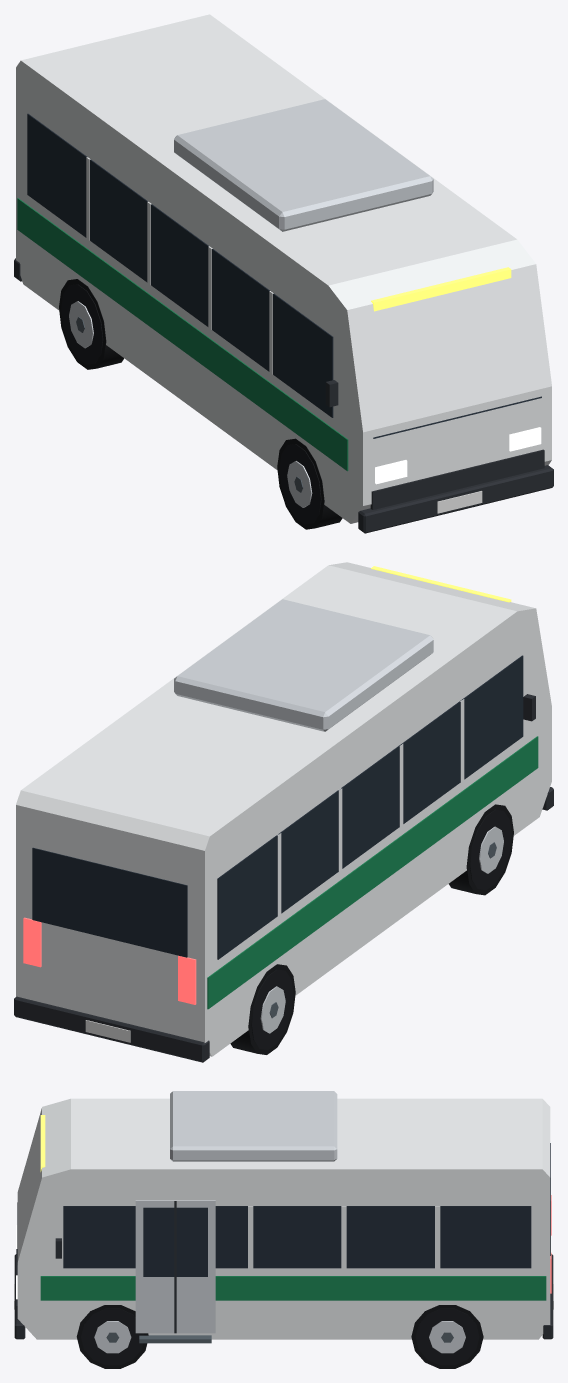
The model's file is modern_jeepney.glb.
3 renders of one model, top to bottom at view 1: azimuth 30°, elevation 25°; view 2: azimuth 150°, elevation 25°; view 3: azimuth 270°, elevation 25°, orthographic. The views are drawn at different scales.
Visible parts, largest first — view 1: modern_jeepney; view 2: modern_jeepney; view 3: modern_jeepney.
Part boxes in pixels (x1,y1,x2,y2): modern_jeepney: (14,14,553,533); modern_jeepney: (14,562,553,1062); modern_jeepney: (14,1091,553,1368).
Size of the model in its own units: 2.42 by 3.11 by 7.1.
